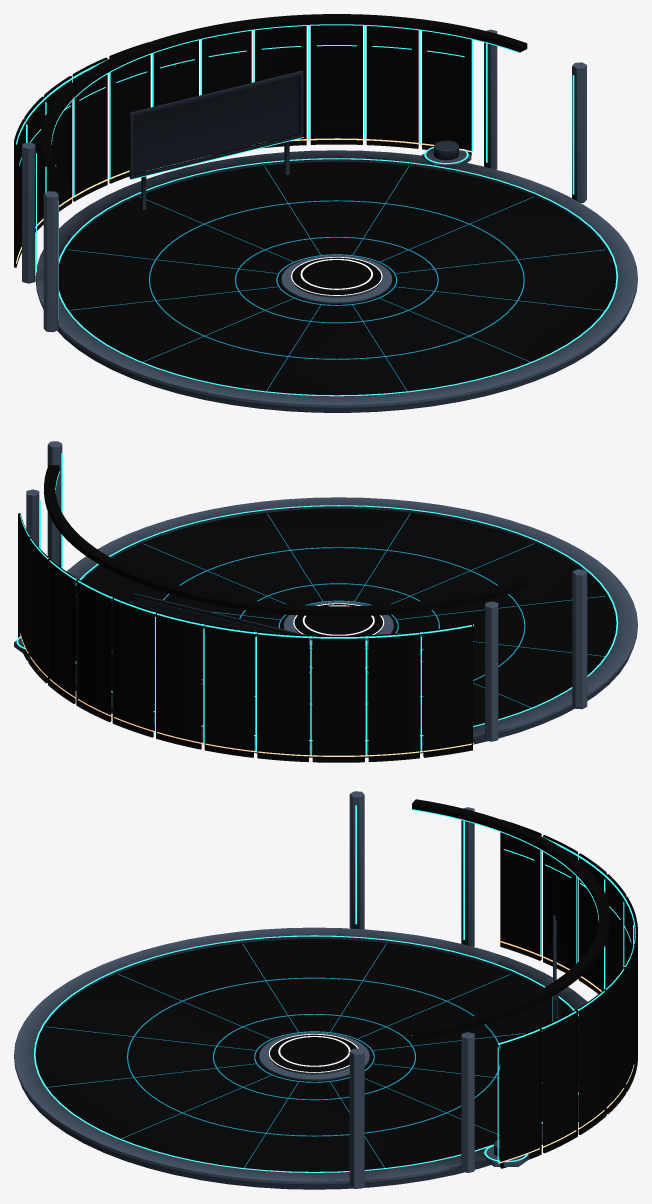
The model's file is deck.glb.
The picture shows the model from 3 angles, top to bottom: view 1: azimuth 30°, elevation 25°; view 2: azimuth 150°, elevation 25°; view 3: azimuth 270°, elevation 25°; orthographic projection.
Parts seen in each view (by area): view 1: Floor, FloorRim, FrameBack, Truss, Wall1, WallInset1, WallInset2, Wall2, WallInset0, Wall0, RimLight, Pillar3 (+26 smaller); view 2: Floor, FloorRim, Wall8, Wall9, Wall7, Truss, Wall6, Wall10, Wall5, Wall4, Wall3, Wall2 (+15 smaller); view 3: Floor, FloorRim, Truss, Wall0, Wall1, Wall2, Wall3, WallInset10, Wall10, Pillar0, WallInset9, Pillar3 (+15 smaller).
Part boxes in pixels (left/top/right/bottom): Floor: left=41, top=162, right=631, bottom=412; FloorRim: left=35, top=150, right=637, bottom=407; FrameBack: left=133, top=75, right=299, bottom=173; Truss: left=40, top=14, right=527, bottom=166; Wall1: left=366, top=26, right=418, bottom=148; WallInset1: left=372, top=43, right=412, bottom=124; WallInset2: left=316, top=42, right=356, bottom=120; Wall2: left=310, top=25, right=362, bottom=144; WallInset0: left=427, top=48, right=465, bottom=131; Wall0: left=422, top=31, right=471, bottom=155; RimLight: left=59, top=158, right=617, bottom=396; Pillar3: left=43, top=191, right=58, bottom=332; Floor: left=75, top=509, right=631, bottom=757; FloorRim: left=67, top=497, right=637, bottom=752; Wall8: left=312, top=635, right=364, bottom=762; Wall9: left=368, top=631, right=419, bottom=761; Wall7: left=257, top=631, right=308, bottom=761; Truss: left=44, top=465, right=527, bottom=616; Wall6: left=204, top=623, right=253, bottom=757; Wall10: left=423, top=623, right=472, bottom=757; Wall5: left=156, top=612, right=201, bottom=749; Wall4: left=112, top=597, right=153, bottom=737; Wall3: left=76, top=579, right=111, bottom=722; Wall2: left=48, top=558, right=75, bottom=703; Floor: left=20, top=939, right=578, bottom=1189; FloorRim: left=14, top=927, right=587, bottom=1184; Truss: left=412, top=799, right=610, bottom=1039; Wall0: left=500, top=1027, right=541, bottom=1168; Wall1: left=543, top=1009, right=577, bottom=1153; Wall2: left=578, top=989, right=606, bottom=1134; Wall3: left=606, top=967, right=626, bottom=1114; WallInset10: left=504, top=846, right=535, bottom=935; Wall10: left=500, top=819, right=541, bottom=960; Pillar0: left=349, top=1048, right=364, bottom=1188; WallInset9: left=545, top=862, right=572, bottom=952; Pillar3: left=349, top=791, right=364, bottom=929.
Size of the model in its own units: 27.56 by 7.21 by 27.62.
